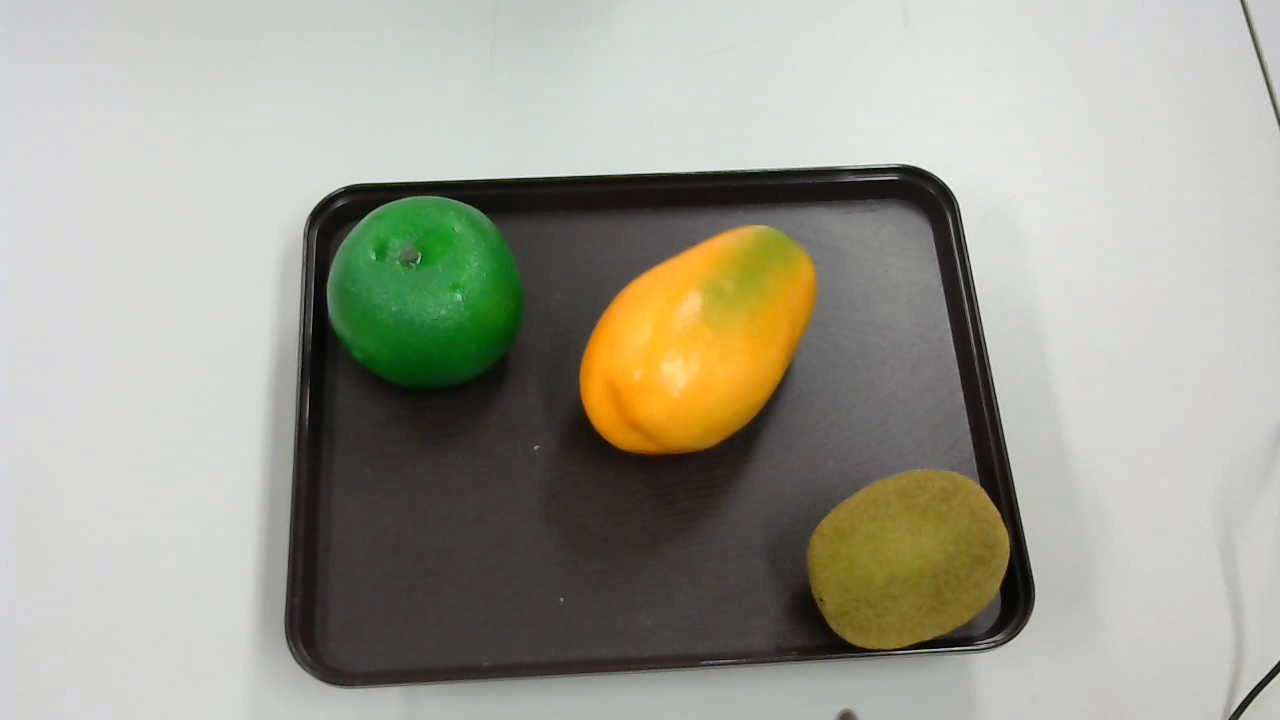green orange: (325, 196, 523, 392)
kiwi fruit: (804, 466, 1016, 659)
papya: (570, 220, 825, 459)
